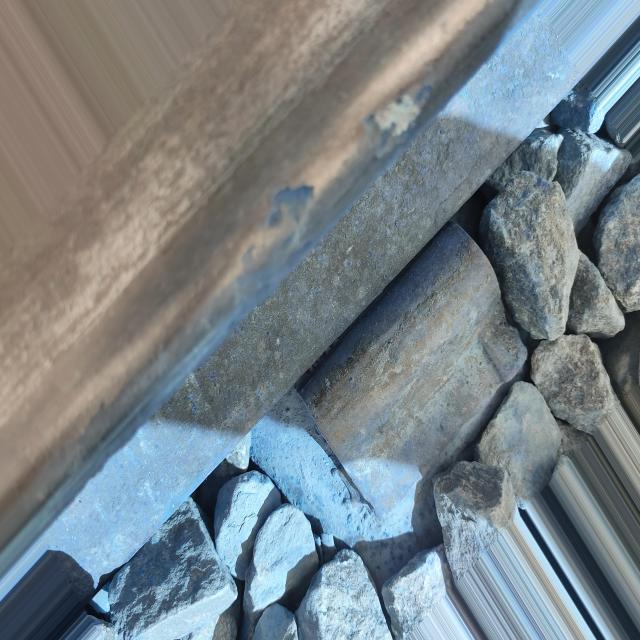Missing Fastener: (286, 212, 526, 540)
